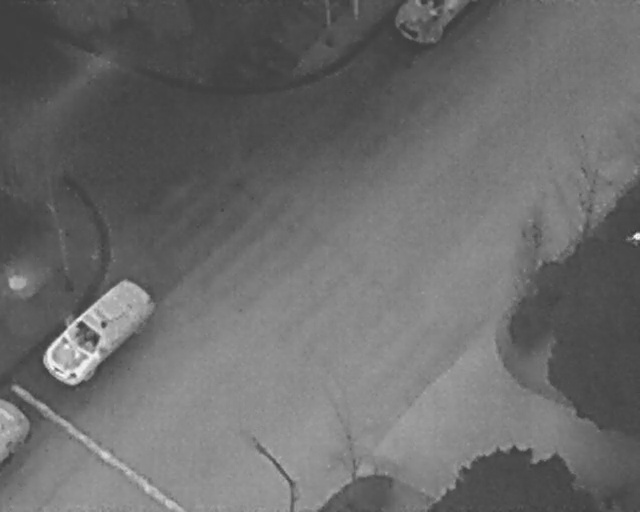Car: (35, 268, 161, 396)
